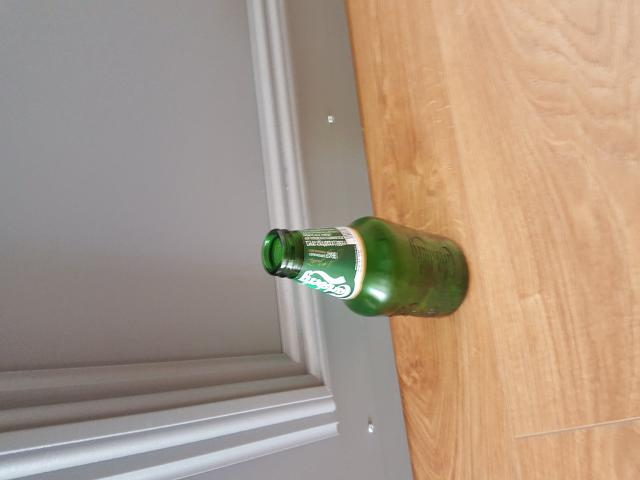beer: (262, 216, 469, 318)
